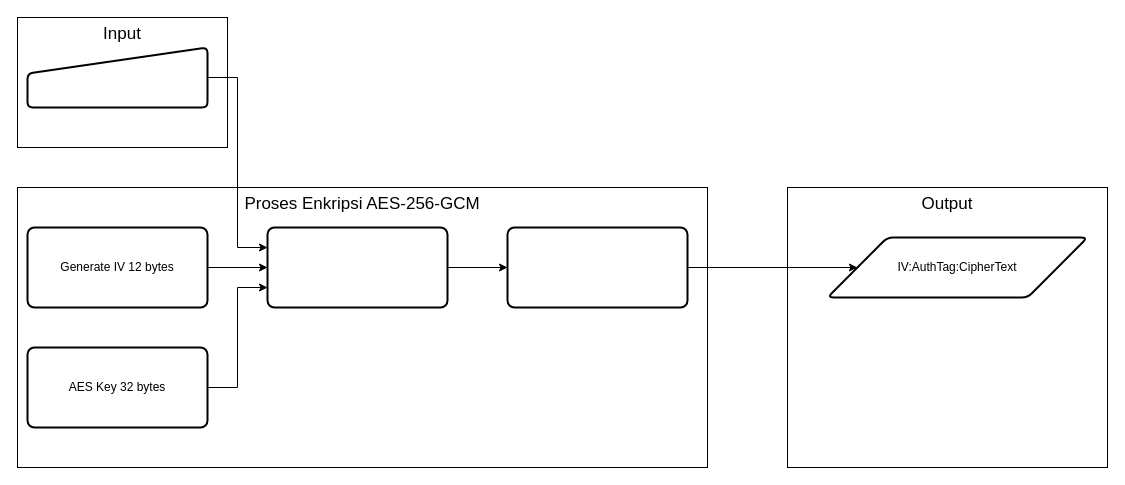
Image size: 1125x485. Some labels were removed from this diagram. The centre of each missing label's shape, as x and y in pixels:
"AES-256-GCM Cipher" goes at (357,267).
"Generate AuthTag 16 bytes" goes at (597,267).
"Plain text" goes at (117,77).
